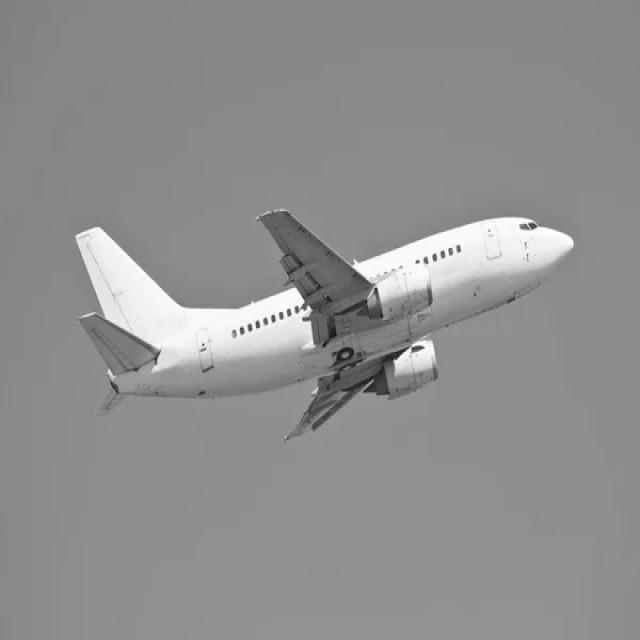Aircraft: (68, 194, 575, 438)
